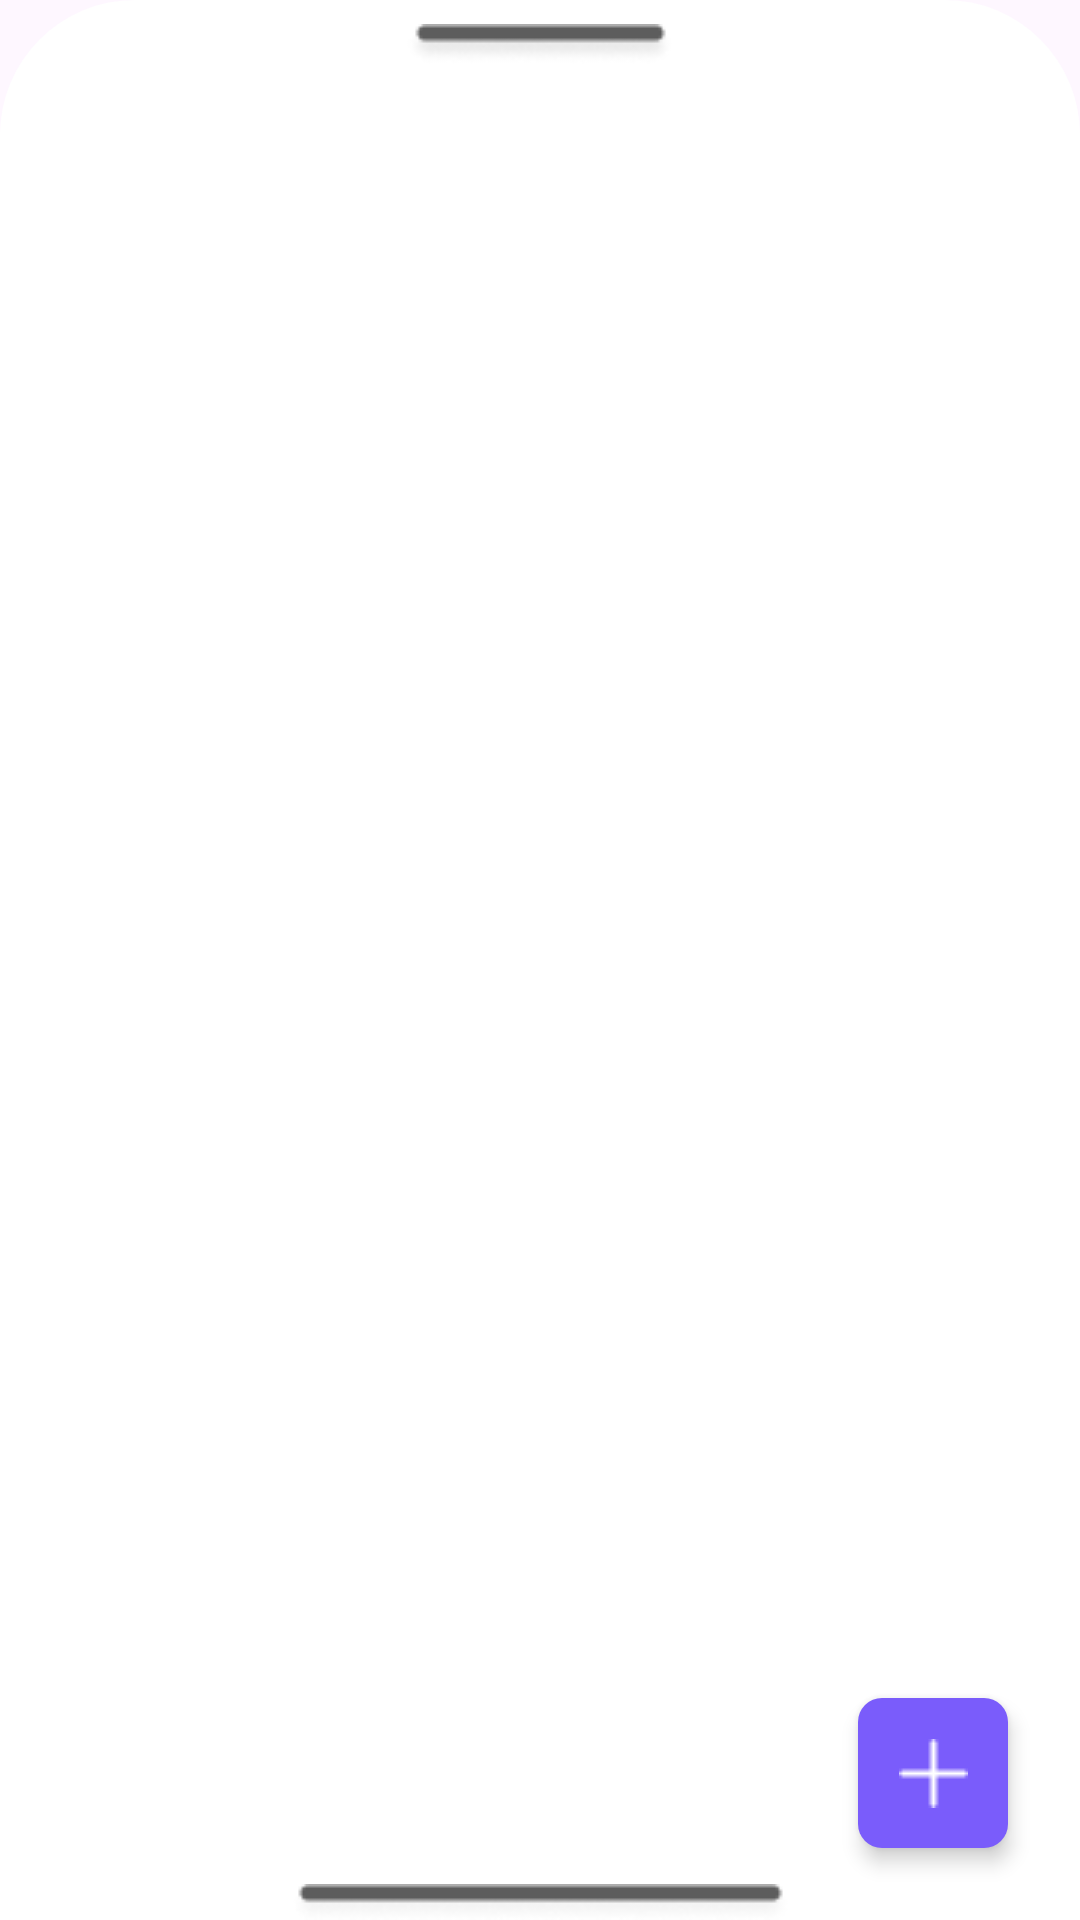

Where icons sit on this 1080w x 1920h app screen, as (x1, y1, x2, y2):
plus: (858, 1698, 1008, 1848)
